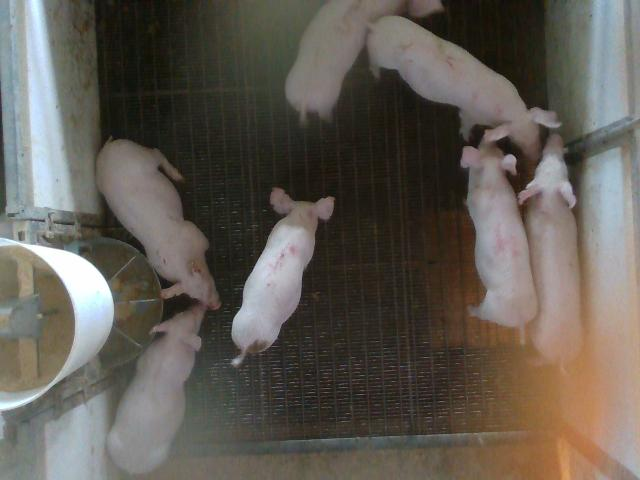pig-4: (461, 136, 538, 342)
pig-5: (231, 189, 335, 366)
